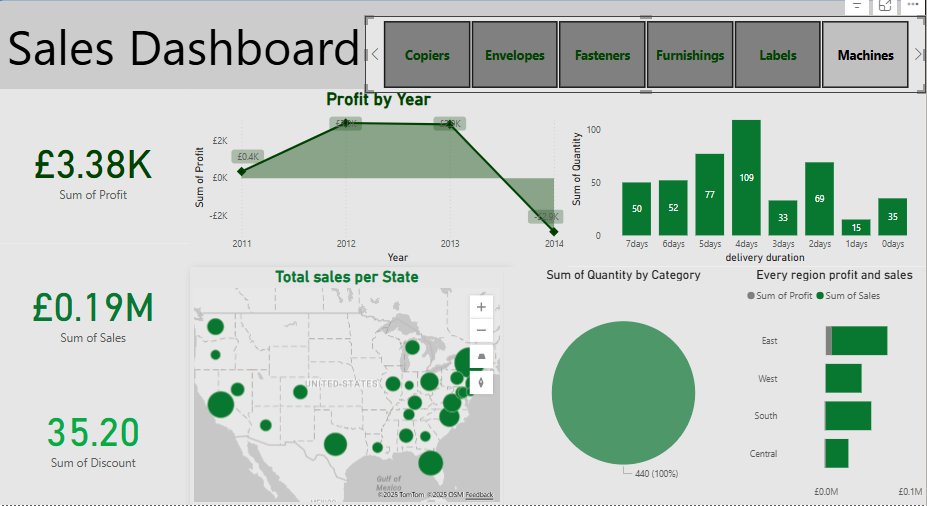

This screenshot's page, from the dashboard's own definition file:
{"tool":"powerbi","page":{"name":"Page 1","canvas":[1280,720],"ordinal":0},"visuals":[{"type":"shape","title":"    ","box":[0,0,1280,152.9],"z":0},{"type":"card","fields":{"Values":["Sum(Data.Profit)"]},"box":[0,147.3,267,213.3],"z":1000},{"type":"card","fields":{"Values":["Sum(Data.Discount)"]},"box":[0,527.1,267,192.7],"z":2000},{"type":"card","fields":{"Values":["Sum(Data.Sales)"]},"box":[0,360.6,267,181.7],"z":3000},{"type":"areaChart","title":"Profit by Year","fields":{"Category":["Data.Year"],"Y":["Sum(Data.Profit)"]},"box":[267,147.3,518.9,245],"z":4000},{"type":"azureMap","title":"Total sales per State","fields":{"Size":["Sum(Data.Sales)"],"Category":["Data.State"]},"box":[267,392.3,432.2,327.6],"z":5000},{"type":"pieChart","fields":{"Category":["Data.Category"],"Y":["Sum(Data.Quantity)"]},"box":[699.2,392.3,328.9,327.6],"z":6000},{"type":"slicer","fields":{"Values":["Data.Sub-Category"]},"box":[507.9,46.8,772.1,106],"z":7000},{"type":"clusteredColumnChart","fields":{"Category":["Data.delivery duration"],"Y":["Sum(Data.Quantity)"]},"box":[786,153,494,239],"z":8000},{"type":"barChart","title":"Every region profit and sales ","fields":{"Category":["Data.Region"],"Y":["Sum(Data.Profit)","Sum(Data.Sales)"]},"box":[1028,392,252,328],"z":9000}]}

Visuals, with their boxes on the page's 1280x720 design canvas (x1, y1, x2, y2). These are canvas units, not pixel positions in the 927x506 screenshot, which may show the page scaled, cropped or inside an application window:
"    " shape: BBox(0, 0, 1280, 153)
card - Sum(Data.Profit): BBox(0, 147, 267, 361)
card - Sum(Data.Discount): BBox(0, 527, 267, 720)
card - Sum(Data.Sales): BBox(0, 361, 267, 542)
"Profit by Year" areaChart: BBox(267, 147, 786, 392)
"Total sales per State" azureMap: BBox(267, 392, 699, 720)
pieChart - Data.Category x Sum(Data.Quantity): BBox(699, 392, 1028, 720)
slicer - Data.Sub-Category: BBox(508, 47, 1280, 153)
clusteredColumnChart - Data.delivery duration x Sum(Data.Quantity): BBox(786, 153, 1280, 392)
"Every region profit and sales " barChart: BBox(1028, 392, 1280, 720)
